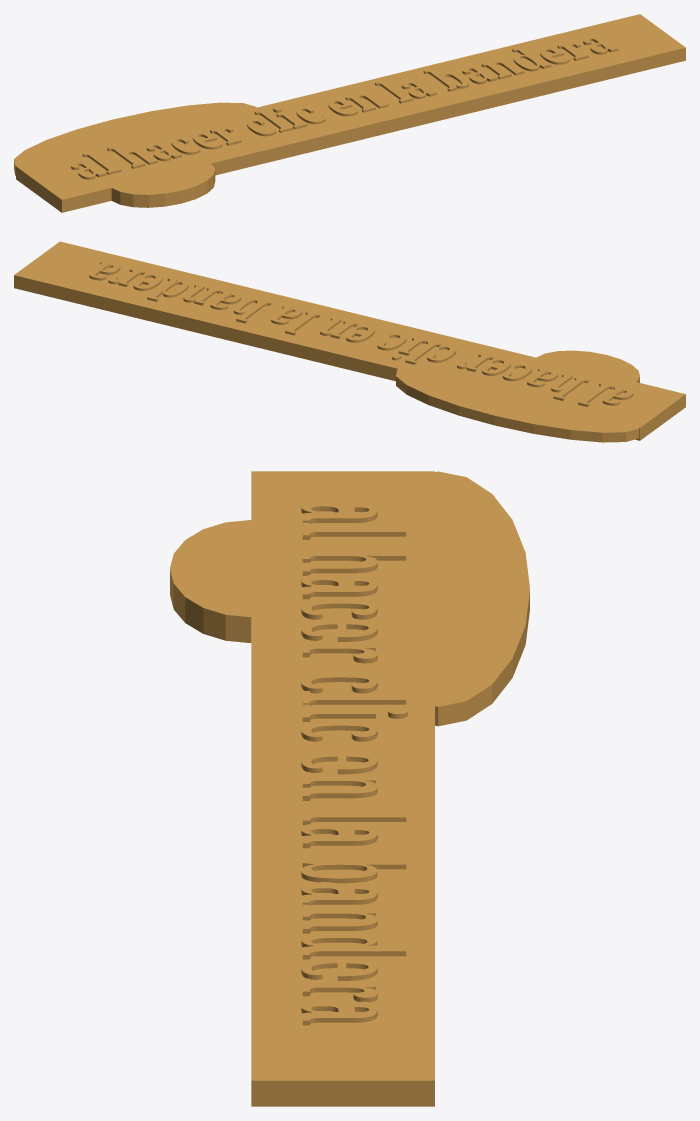
Rendered from Bandera.gltf.
The picture shows the model from 3 angles, top to bottom: view 1: azimuth 30°, elevation 25°; view 2: azimuth 150°, elevation 25°; view 3: azimuth 270°, elevation 25°; orthographic projection. The views are drawn at different scales.
Visible parts, largest first — view 1: Mesh_Mesh_head_geo.001_lambert2SG.001; view 2: Mesh_Mesh_head_geo.001_lambert2SG.001; view 3: Mesh_Mesh_head_geo.001_lambert2SG.001.
Boxes of the visible parts, left/top/right/bottom form: Mesh_Mesh_head_geo.001_lambert2SG.001: left=14, top=14, right=685, bottom=212; Mesh_Mesh_head_geo.001_lambert2SG.001: left=14, top=241, right=685, bottom=442; Mesh_Mesh_head_geo.001_lambert2SG.001: left=170, top=471, right=529, bottom=1106.
Bounding box in the file's own units: 0.8 × 0.02 × 0.2.
